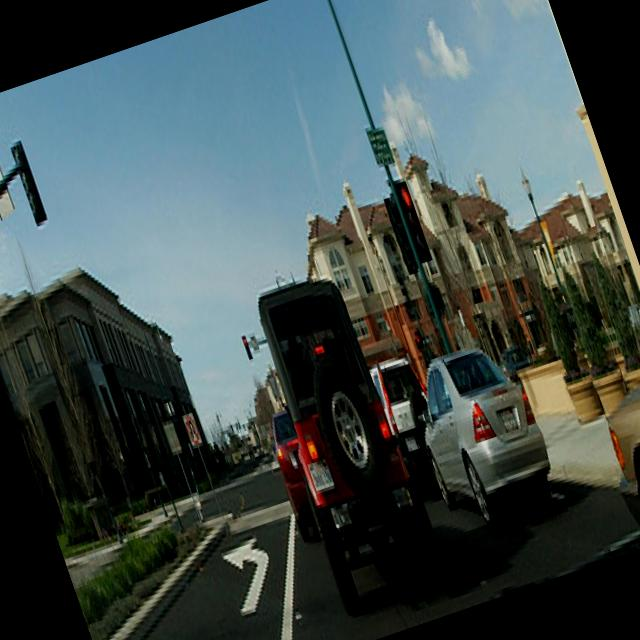Vehicle: (240, 270, 453, 626), (398, 330, 568, 550), (552, 255, 640, 527), (366, 348, 460, 502), (256, 402, 334, 546)
